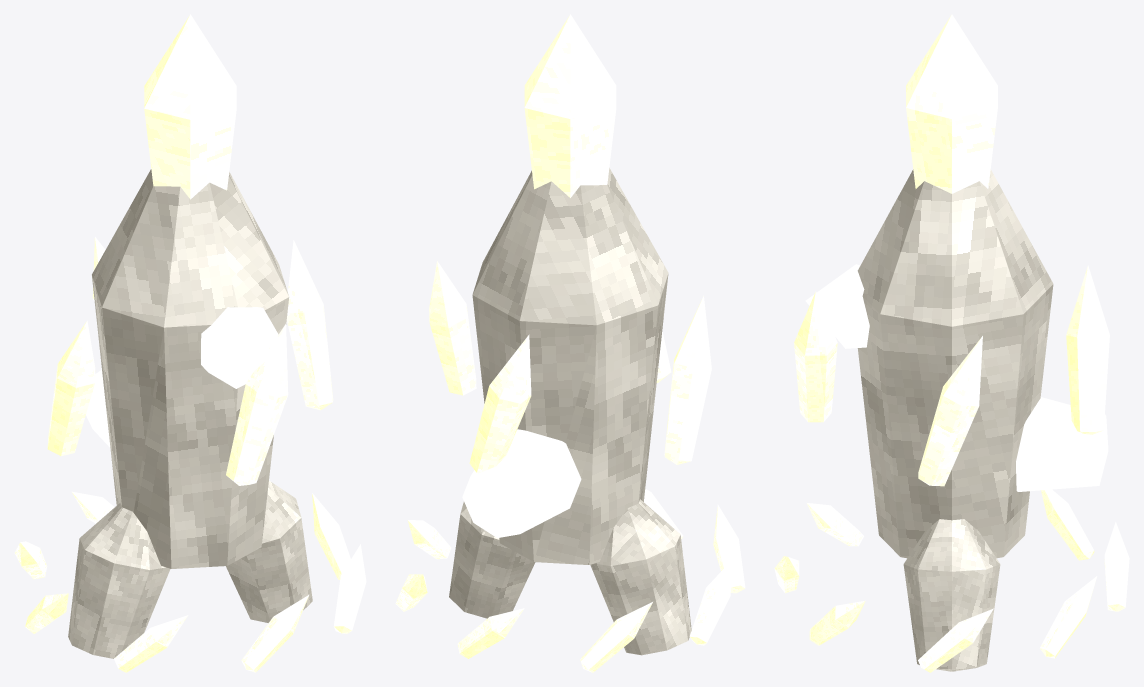
Rendered from deep-fracture-obelisk-warden-visual-radiance.glb.
3 renders of one model, left to right at view 1: azimuth 30°, elevation 25°; view 2: azimuth 150°, elevation 25°; view 3: azimuth 270°, elevation 25°, orthographic.
Parts seen in each view (by area): view 1: central-obelisk, crown-spire, base-left, base-right, secondary-crystal-1, secondary-crystal-0, control-core, secondary-crystal-2, ground-prong-2, ground-prong-1, ground-prong-3, ground-prong-0 (+4 smaller); view 2: central-obelisk, crown-spire, base-left, death-anchor, base-right, secondary-crystal-2, secondary-crystal-3, secondary-crystal-0, ground-prong-5, ground-prong-4, ground-prong-3, ground-prong-6 (+2 smaller); view 3: central-obelisk, crown-spire, base-right, death-anchor, secondary-crystal-3, secondary-crystal-0, secondary-crystal-1, control-core, ground-prong-7, ground-prong-0, ground-prong-5, ground-prong-6 (+3 smaller).
Boxes of the visible parts, box(x1,y1,x2,y2) form: central-obelisk: box(92, 169, 289, 568); crown-spire: box(144, 14, 236, 199); base-left: box(68, 503, 170, 658); base-right: box(226, 480, 312, 622); secondary-crystal-1: box(226, 324, 288, 485); secondary-crystal-0: box(286, 240, 333, 410); control-core: box(201, 307, 278, 388); secondary-crystal-2: box(47, 320, 95, 456); ground-prong-2: box(241, 595, 308, 672); ground-prong-1: box(333, 544, 366, 633); ground-prong-3: box(114, 615, 188, 672); ground-prong-0: box(312, 493, 350, 579); central-obelisk: box(472, 168, 668, 564); crown-spire: box(524, 14, 616, 197); base-left: box(590, 499, 691, 655); death-anchor: box(462, 429, 581, 537); base-right: box(449, 502, 535, 618); secondary-crystal-2: box(664, 295, 711, 464); secondary-crystal-3: box(469, 334, 531, 473); secondary-crystal-0: box(429, 261, 476, 395); ground-prong-5: box(580, 602, 652, 672); ground-prong-4: box(689, 559, 733, 645); ground-prong-3: box(713, 504, 745, 593); ground-prong-6: box(457, 608, 524, 658); central-obelisk: box(857, 169, 1053, 558); crown-spire: box(906, 14, 997, 193); base-right: box(903, 519, 1000, 671); death-anchor: box(1016, 397, 1108, 491); secondary-crystal-3: box(1066, 265, 1109, 434); secondary-crystal-0: box(918, 336, 982, 486); secondary-crystal-1: box(794, 291, 837, 422); control-core: box(805, 264, 869, 348); ground-prong-7: box(1040, 576, 1097, 658); ground-prong-0: box(918, 608, 993, 672); ground-prong-5: box(1041, 489, 1094, 560); ground-prong-6: box(1104, 522, 1129, 611).
Size of the model in its own units: 3.08 by 5.89 by 3.08.
Materials: 3 (3 with a texture image).
